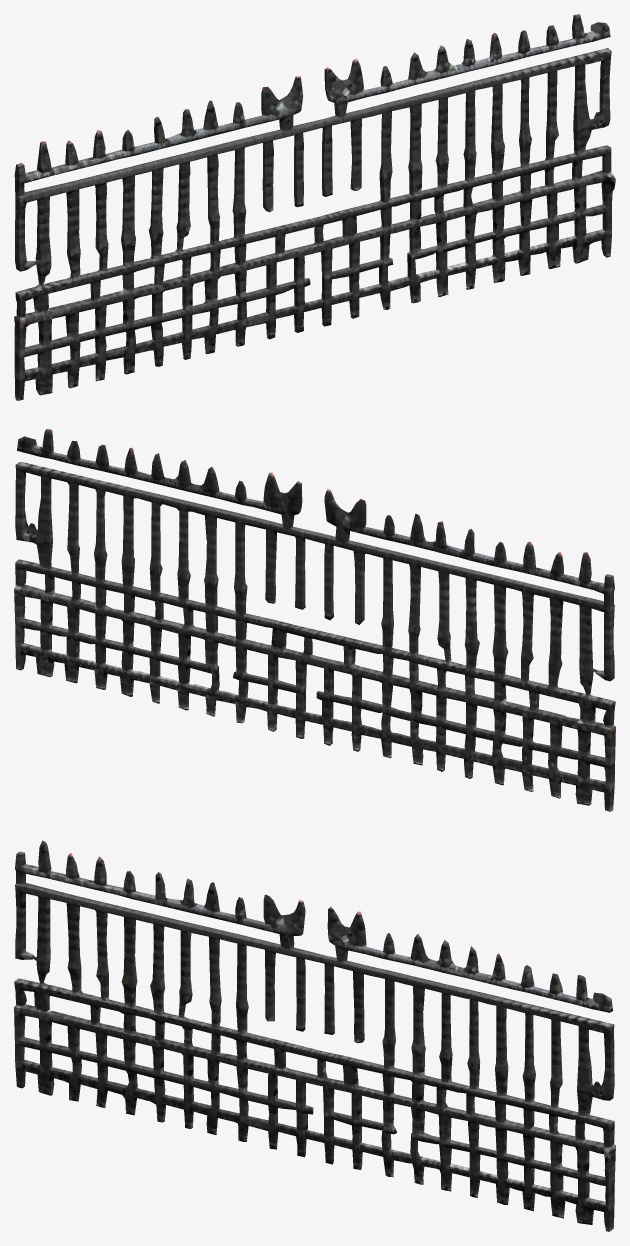
3 views of the same model, one above another, from view 1: azimuth 30°, elevation 25°; view 2: azimuth 150°, elevation 25°; view 3: azimuth 330°, elevation 25° (orthographic).
Visible parts, largest first — view 1: rail01; view 2: rail01; view 3: rail01.
Boxes of the visible parts, <box> form: rail01: <box>14,14,615,400</box>; rail01: <box>14,429,615,811</box>; rail01: <box>14,840,615,1231</box>.
Bounding box in the file's own units: 2.4 × 0.9997 × 0.0724.
1 material, 1 textured.
